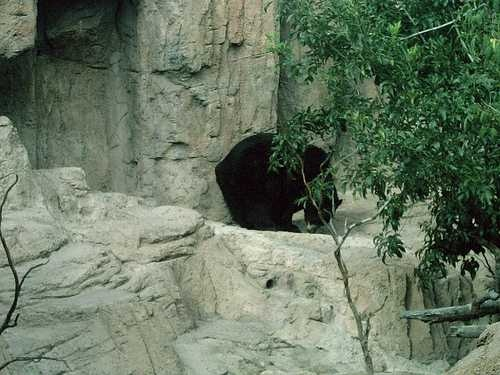bear: (215, 120, 343, 248)
